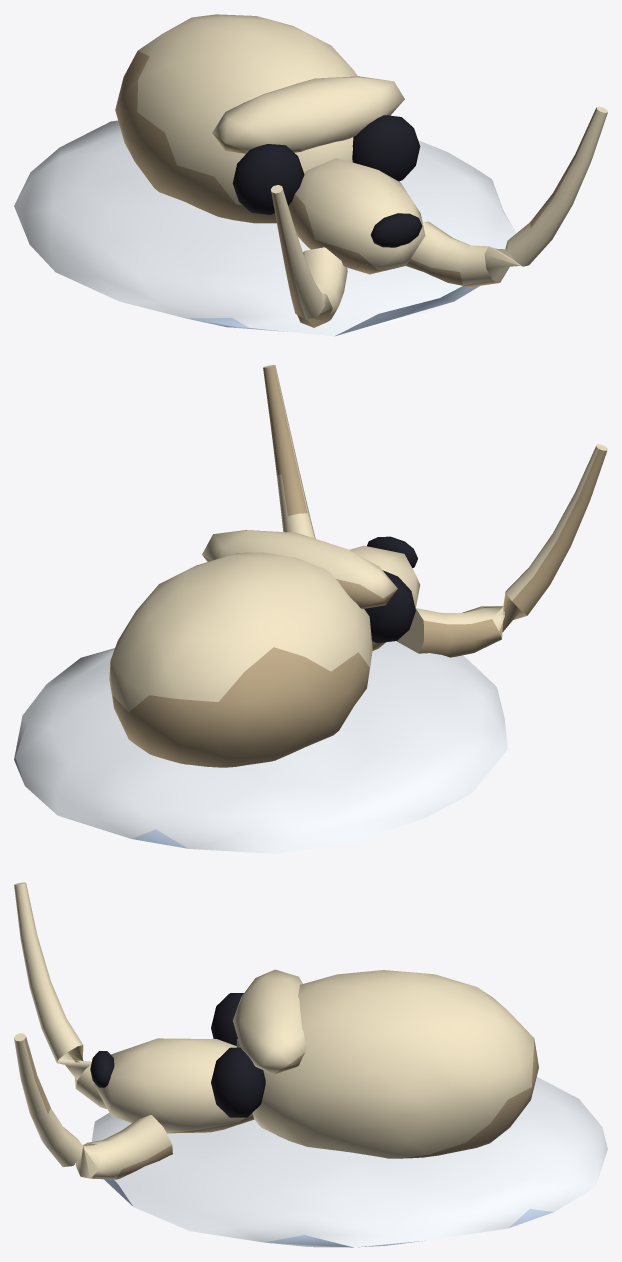
File: BeastSkull.fbx
3 views of the same model, one above another, from view 1: azimuth 30°, elevation 25°; view 2: azimuth 150°, elevation 25°; view 3: azimuth 270°, elevation 25° (orthographic). The views are drawn at different scales.
Visible parts, largest first — view 1: BeastSkull; view 2: BeastSkull; view 3: BeastSkull.
Boxes of the visible parts, x1,y1,x2,y2 form: BeastSkull: (14,14,607,336); BeastSkull: (14,365,607,853); BeastSkull: (14,882,607,1247).
Bounding box in the file's own units: 1.51 × 0.7026 × 1.93.
Materials: 1 (1 with a texture image).
